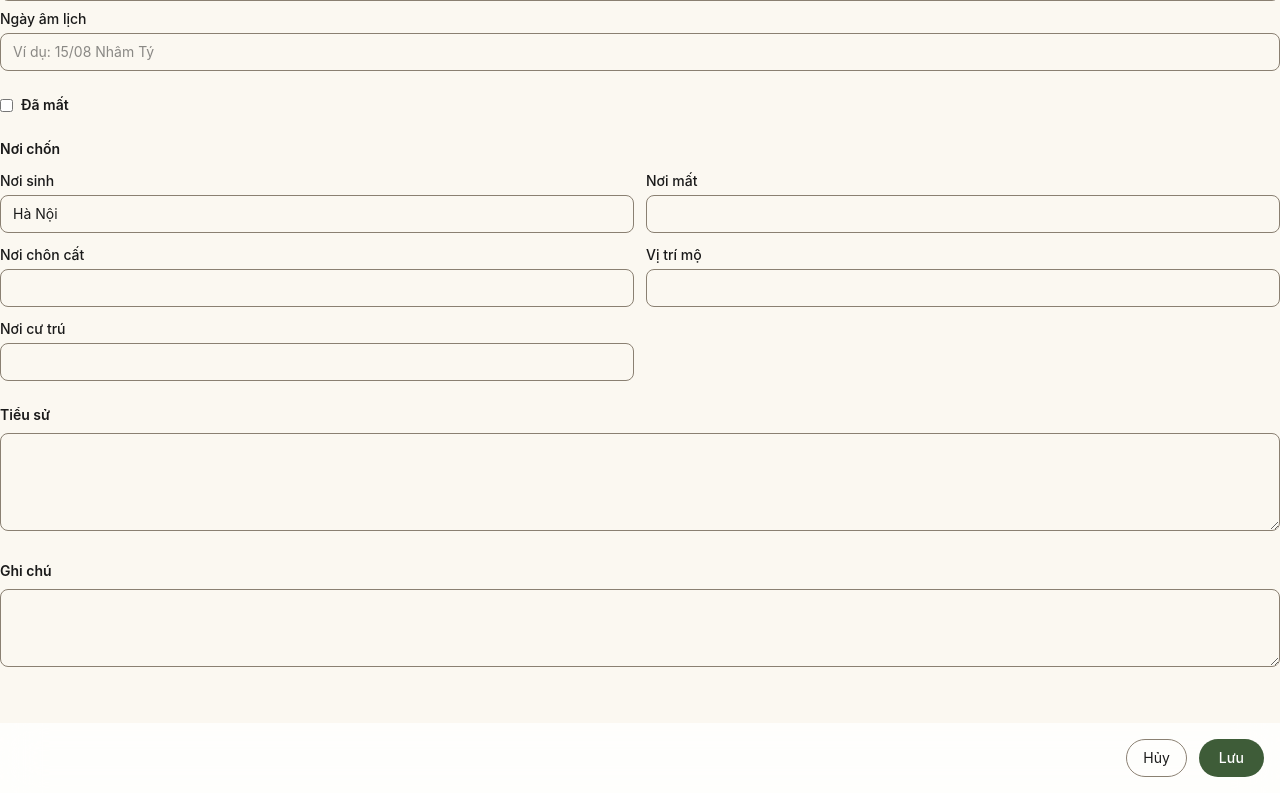
PersonForm — edit, 409 stale_write (spec §7.7c) › opens the field-level conflict dialog instead of a generic error banner
(page scrolled)
Step 1. Type "ghi chú của tôi" into the text box labelled "Ghi chú" → (640, 628), box [0,589,1279,667]
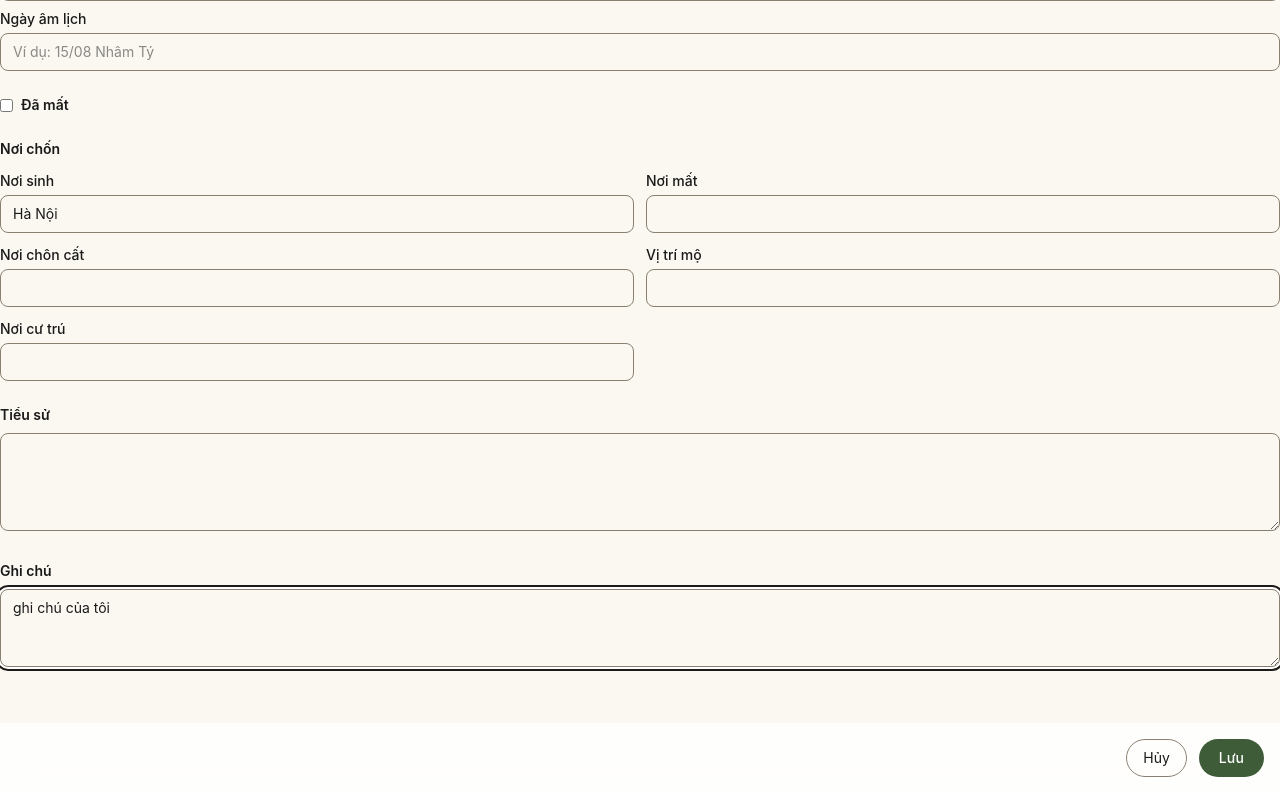
Step 2. Click the button "Lưu" → (1231, 758), box [1199,739,1264,777]
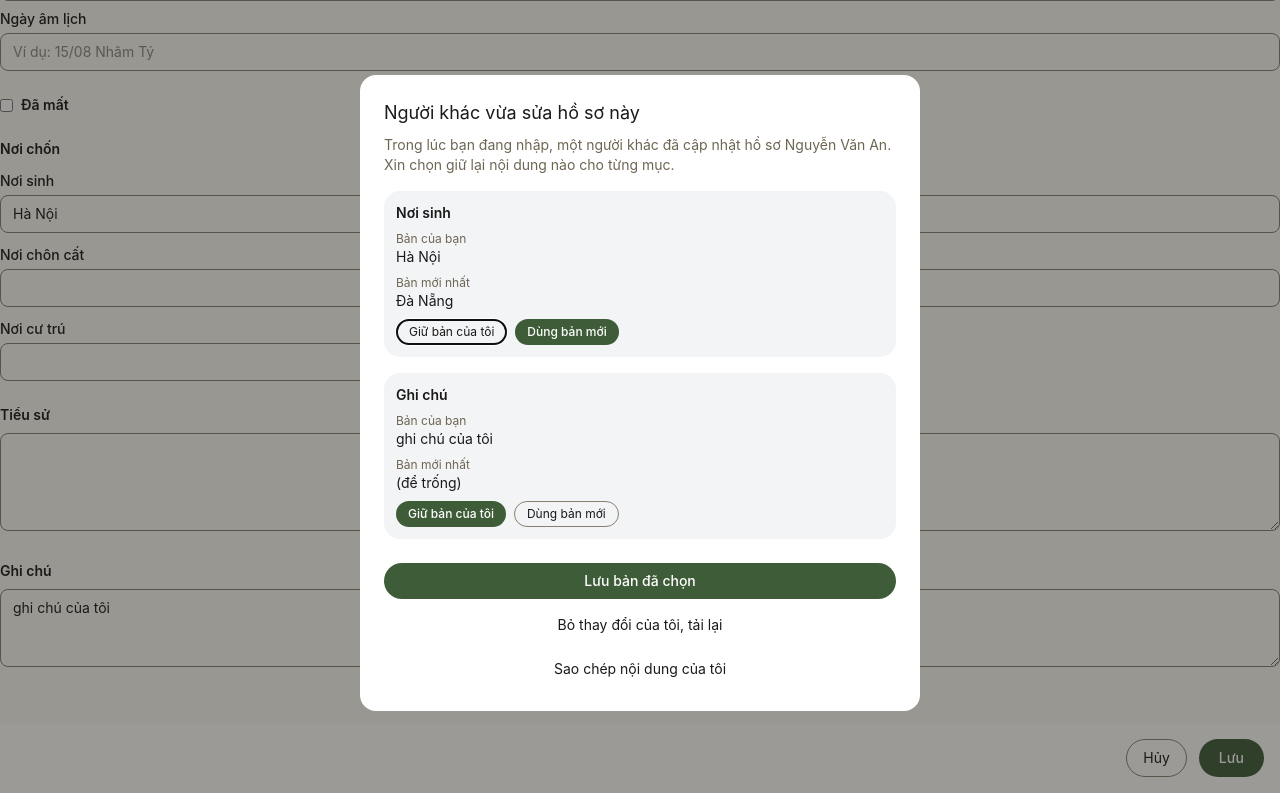
Check: the heading "Người khác vừa sửa hồ sơ này" is shown, box [384,102,640,123]
Check: the list item "Ghi chú" is shown, box [396,386,448,403]
Check: the list item "Nơi sinh" is shown, box [396,204,451,221]
